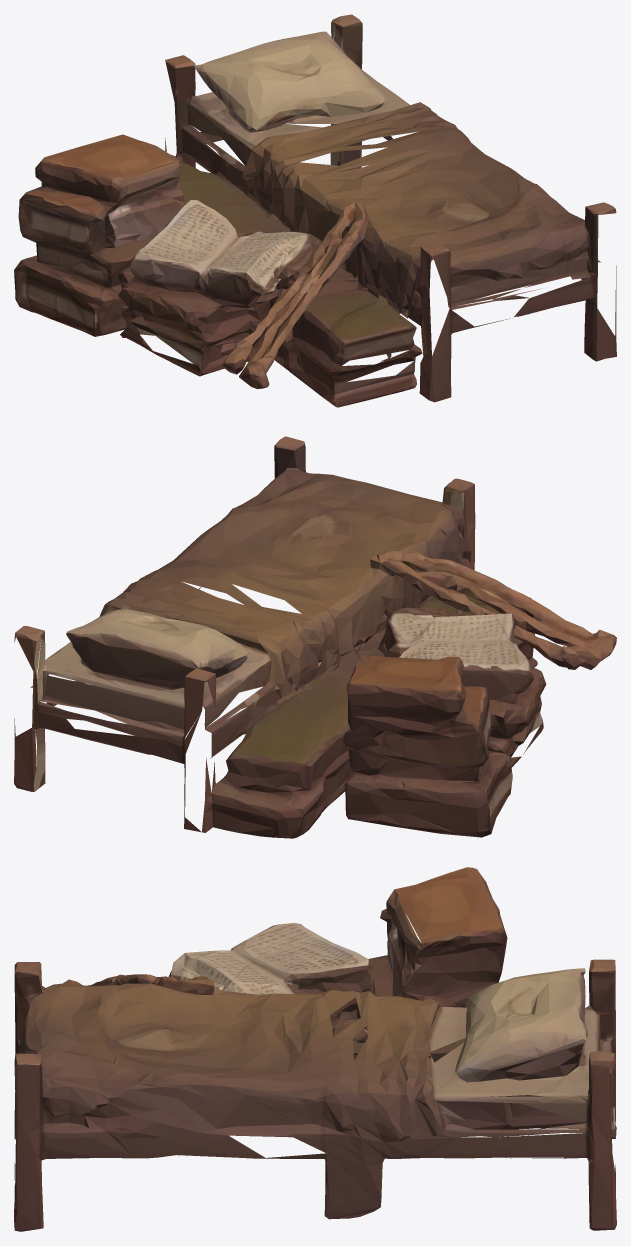
Rendered from hermit_nook.glb.
The picture shows the model from 3 angles, top to bottom: view 1: azimuth 30°, elevation 25°; view 2: azimuth 150°, elevation 25°; view 3: azimuth 270°, elevation 25°; orthographic projection. The views are drawn at different scales.
Parts seen in each view (by area): view 1: geometry_0; view 2: geometry_0; view 3: geometry_0.
Boxes of the visible parts, x1=… form: geometry_0: x1=14, y1=14, x2=616, y2=407; geometry_0: x1=14, y1=436, x2=616, y2=838; geometry_0: x1=14, y1=867, x2=616, y2=1231.
Size of the model in its own units: 1.74 by 0.6591 by 2.
Materials: 1 (1 with a texture image).
